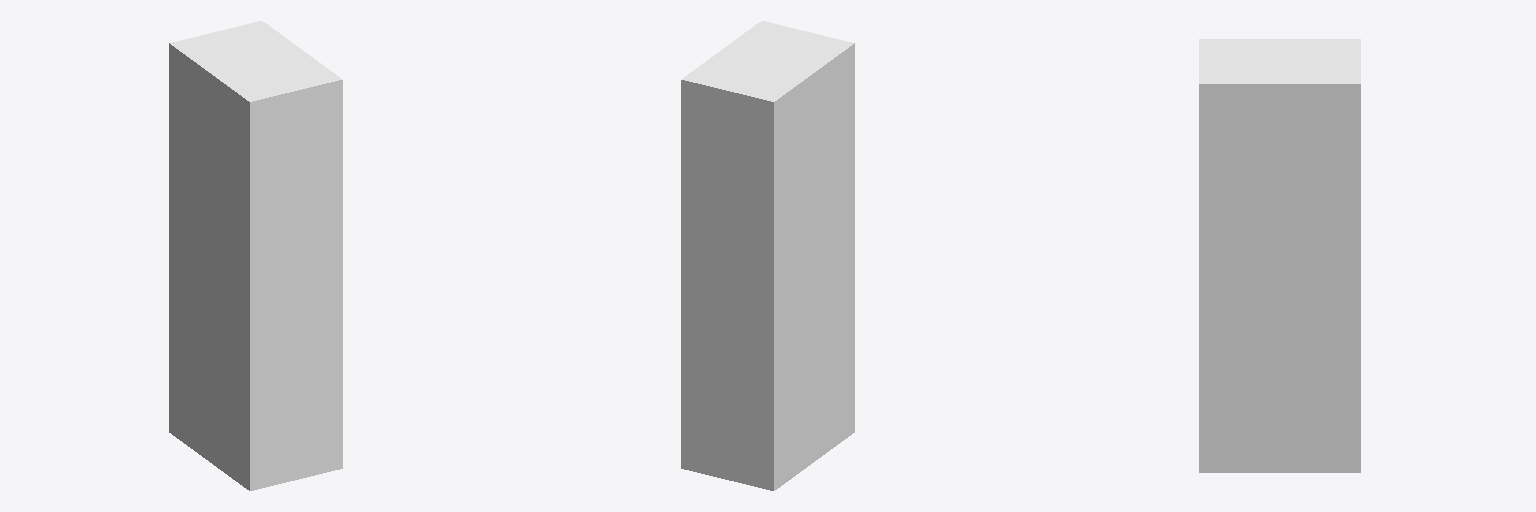
Rendered from Zoro_BL.obj.
3 renders of one model, left to right at view 1: azimuth 30°, elevation 25°; view 2: azimuth 150°, elevation 25°; view 3: azimuth 270°, elevation 25°, orthographic.
Parts seen in each view (by area): view 1: object 1; view 2: object 1; view 3: object 1.
Boxes of the visible parts, box(x1,y1,x2,y2) form: object 1: box(169, 21, 342, 490); object 1: box(681, 21, 854, 490); object 1: box(1199, 39, 1360, 472).
Size of the model in its own units: 0.2 by 0.8 by 0.3.